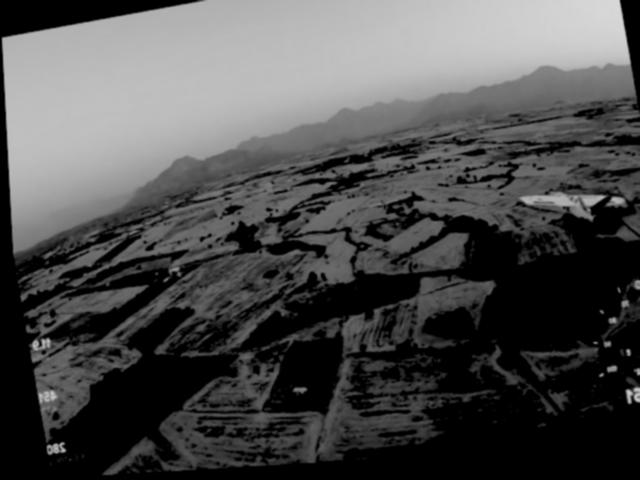hedef: (510, 177, 635, 250)
